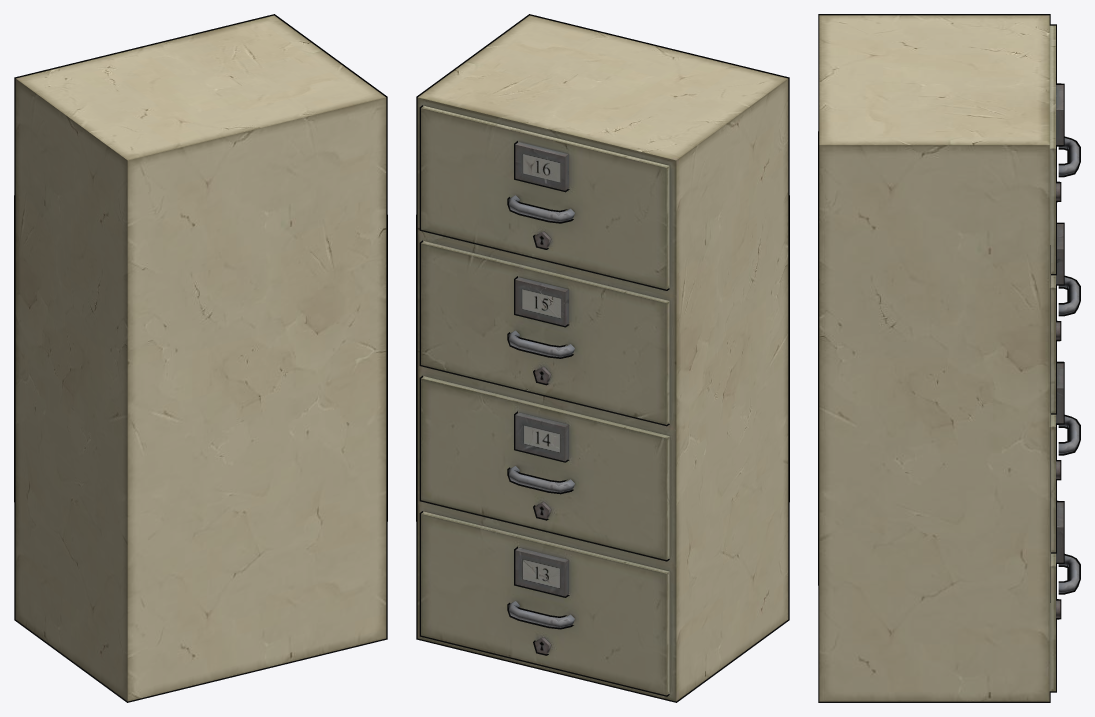
Rendered from Locker.fbx.
The picture shows the model from 3 angles, left to right: view 1: azimuth 30°, elevation 25°; view 2: azimuth 150°, elevation 25°; view 3: azimuth 270°, elevation 25°; orthographic projection. The views are drawn at different scales.
Visible parts, largest first — view 1: Locker; view 2: Locker; view 3: Locker.
Part boxes in pixels (x1=…): Locker: x1=14, y1=14, x2=387, y2=702; Locker: x1=416, y1=14, x2=789, y2=702; Locker: x1=818, y1=14, x2=1080, y2=702.
Bounding box in the file's own units: 87.83 × 175 × 74.55.
